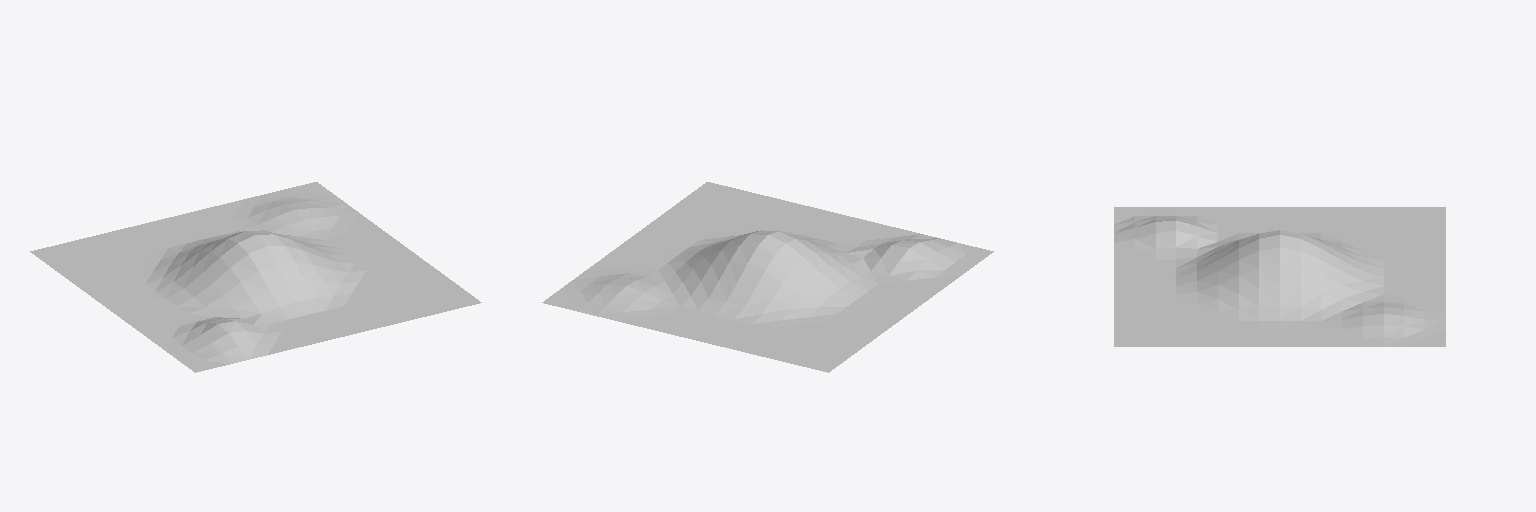
The model's file is tile2.obj.
3 renders of one model, left to right at view 1: azimuth 30°, elevation 25°; view 2: azimuth 150°, elevation 25°; view 3: azimuth 270°, elevation 25°, orthographic.
Visible parts, largest first — view 1: Tile2_Plane.007; view 2: Tile2_Plane.007; view 3: Tile2_Plane.007.
Part boxes in pixels (x1,y1,x2,y2): Tile2_Plane.007: (30, 182, 481, 372); Tile2_Plane.007: (542, 182, 993, 372); Tile2_Plane.007: (1114, 207, 1445, 346).
Bounding box in the file's own units: 30 × 4.24 × 30.